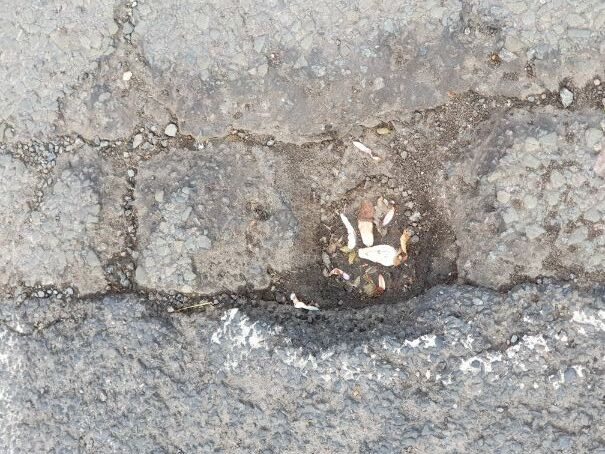pothole: (69, 83, 544, 358)
